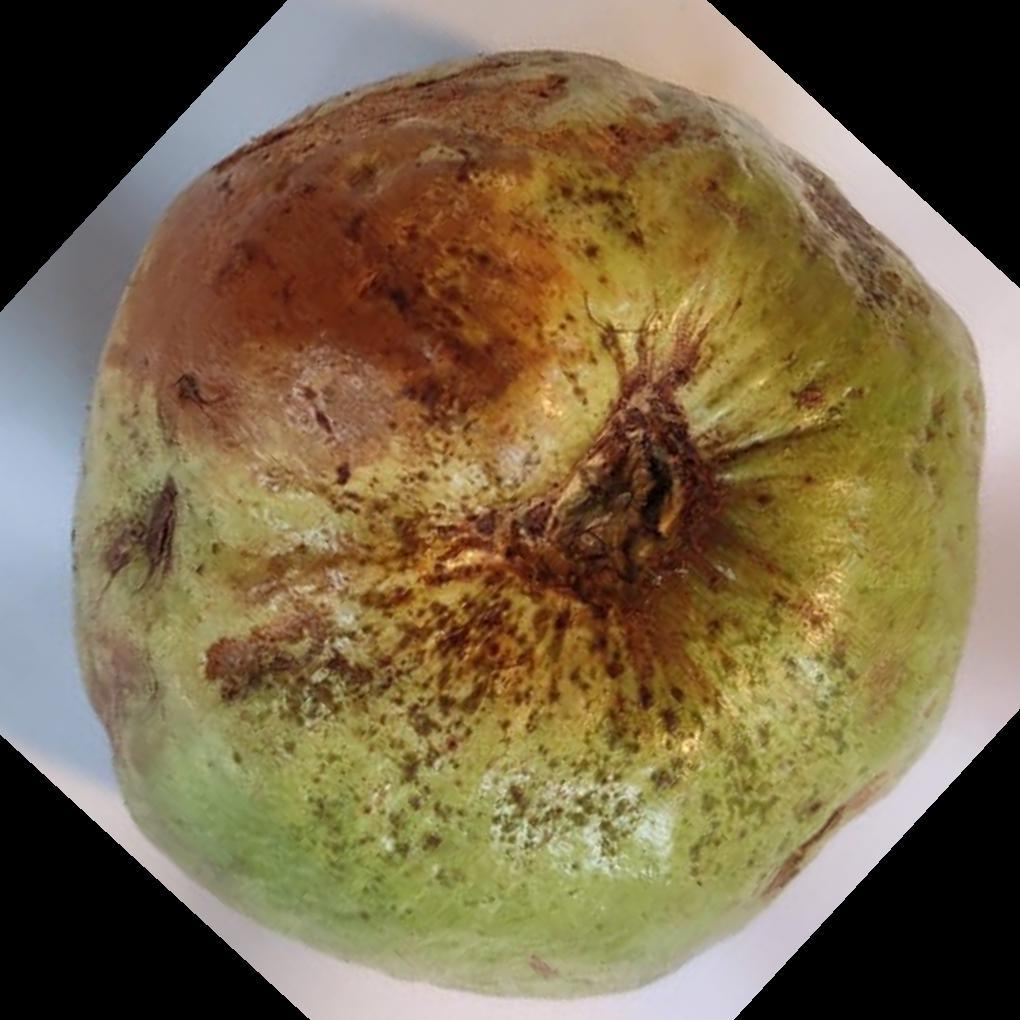FreshOrange: (69, 48, 989, 1002)
